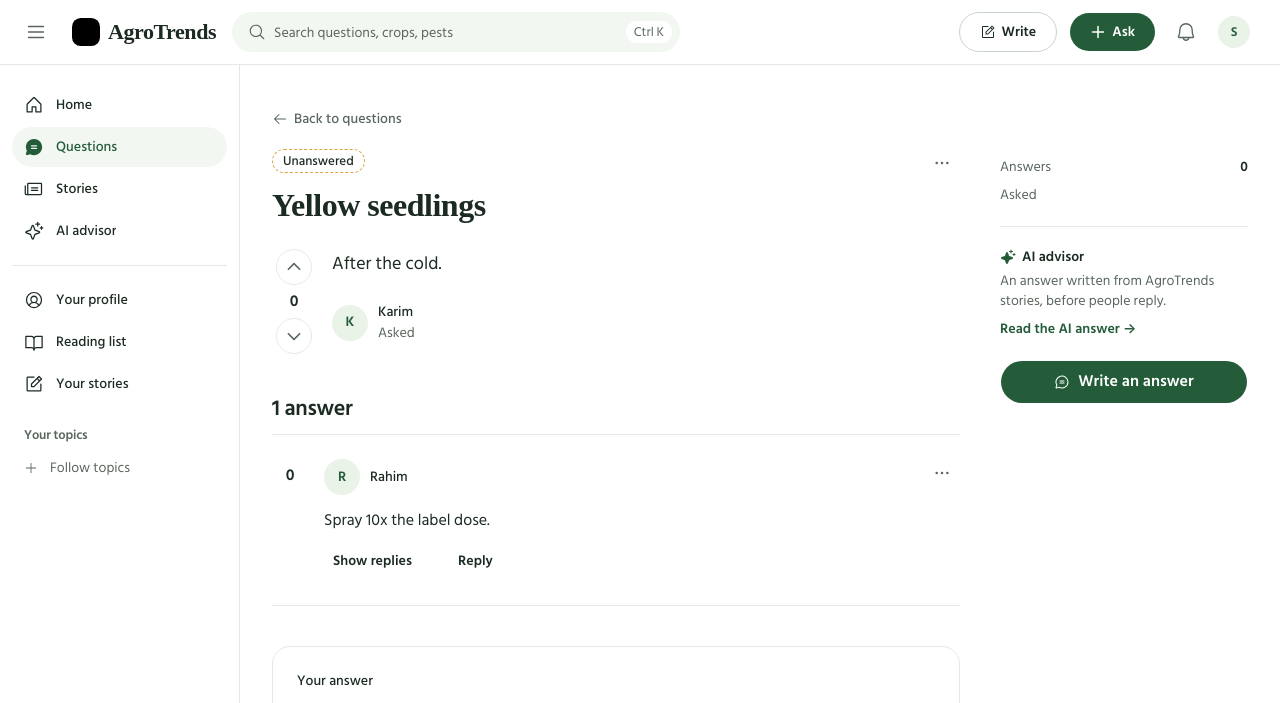
Test: no report button on your own posts
Step 1. Click the button named "More actions" in the row of "Rahim" → click(942, 473), box [924, 455, 960, 491]
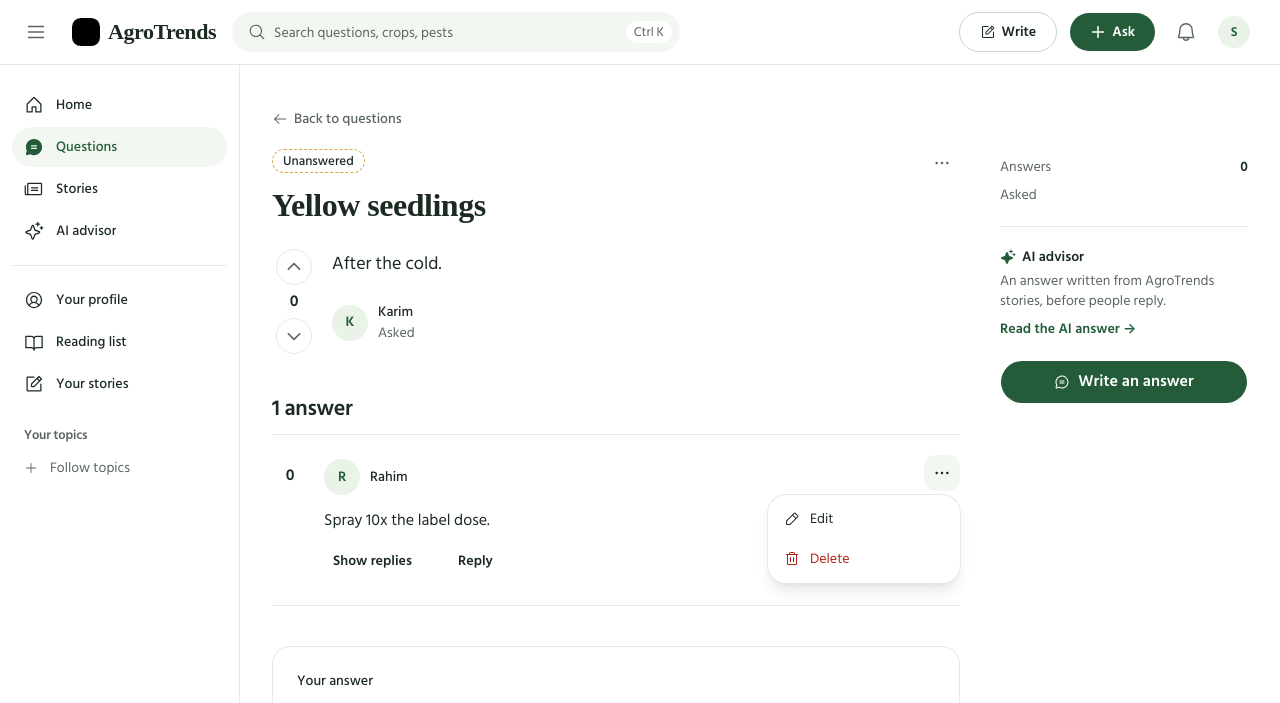
Expected: the menu item "Edit" is shown, [784, 507, 833, 530]
